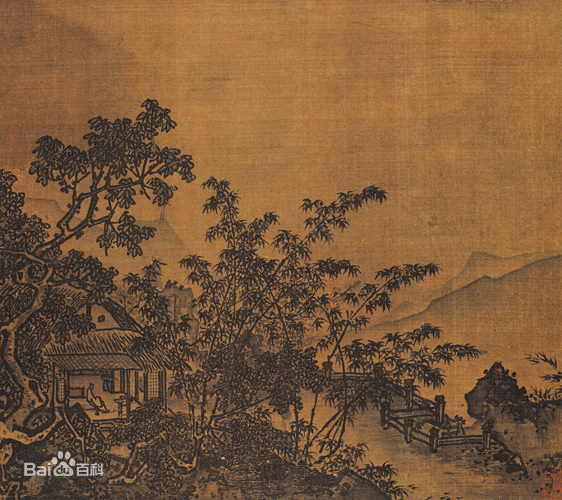house: (34, 281, 186, 429), (19, 189, 184, 248)
man: (83, 384, 112, 414)
range: (337, 239, 557, 345)
tree: (185, 185, 460, 475), (1, 92, 191, 465)
